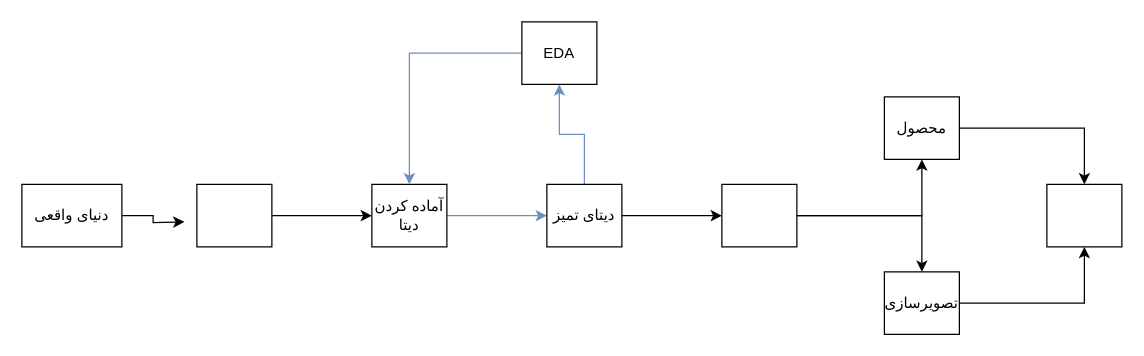
The diagram is 1144 pixels wide and 356 high, and some of its shapes have lost their labels. Here are the shapes that lost their labels. From the top down, the box of each, then its label:
(196, 183, 272, 247): دیتای خام
(721, 183, 797, 247): مدلسازی
(1046, 183, 1122, 247): تصمیم گیری
